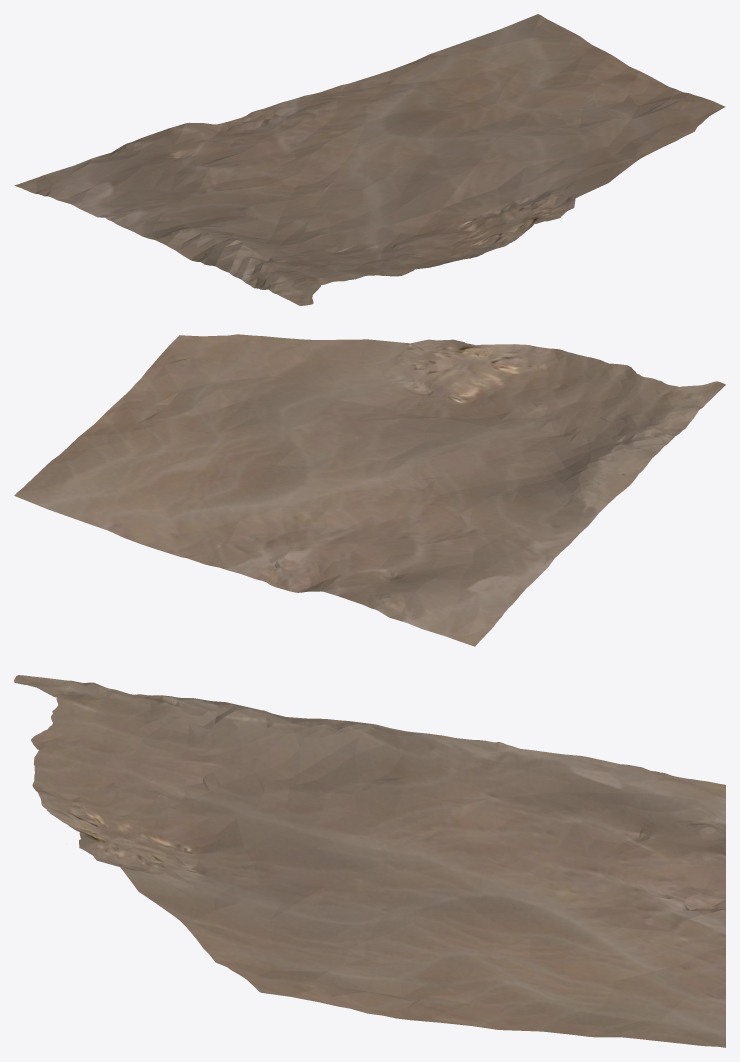
3 renders of one model, top to bottom at view 1: azimuth 30°, elevation 25°; view 2: azimuth 150°, elevation 25°; view 3: azimuth 270°, elevation 25°, orthographic. The views are drawn at different scales.
Size of the model in its own units: 2.09 by 0.3374 by 1.98.
2 materials, 2 textured.
